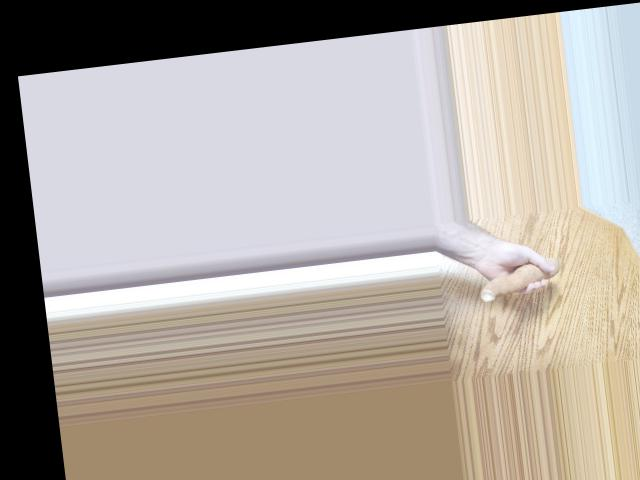sweet_potato: (472, 257, 566, 302)
